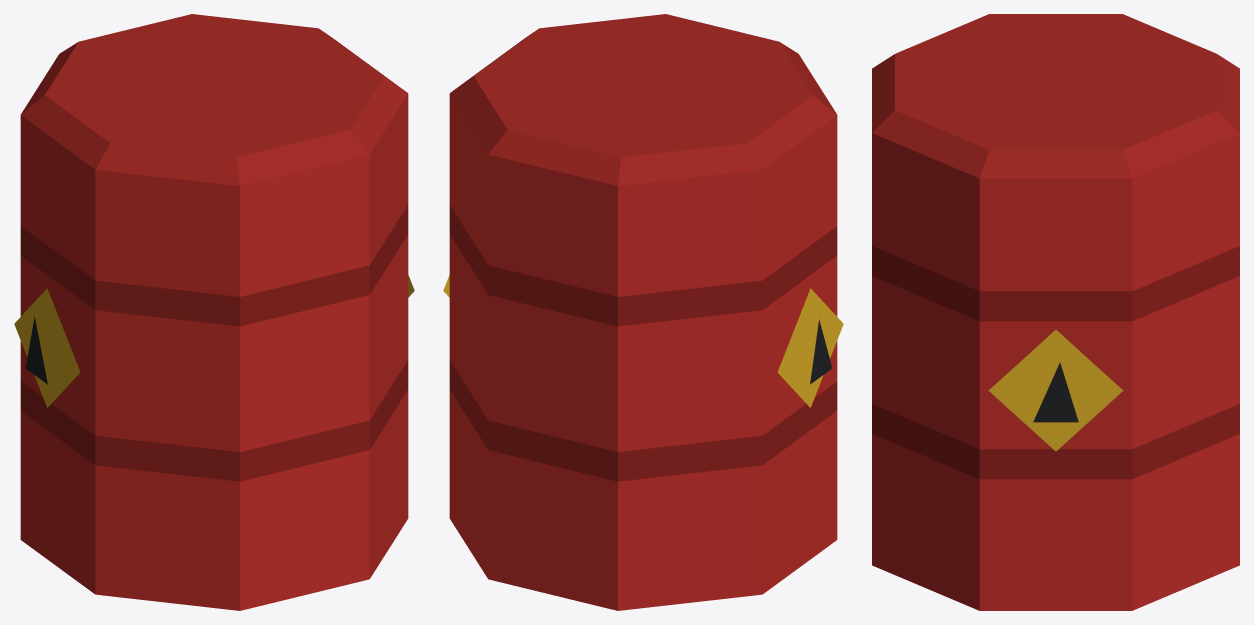
File: barrel.glb
3 views of the same model, side by side, from view 1: azimuth 30°, elevation 25°; view 2: azimuth 150°, elevation 25°; view 3: azimuth 270°, elevation 25° (orthographic).
Parts seen in each view (by area): view 1: barrel; view 2: barrel; view 3: barrel.
Boxes of the visible parts, left/top/right/bottom form: barrel: left=14, top=14, right=414, bottom=610; barrel: left=443, top=14, right=843, bottom=610; barrel: left=872, top=14, right=1239, bottom=610.
Bounding box in the file's own units: 0.1007 × 0.12 × 0.0887.
